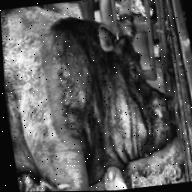boar: (1, 10, 185, 173)
